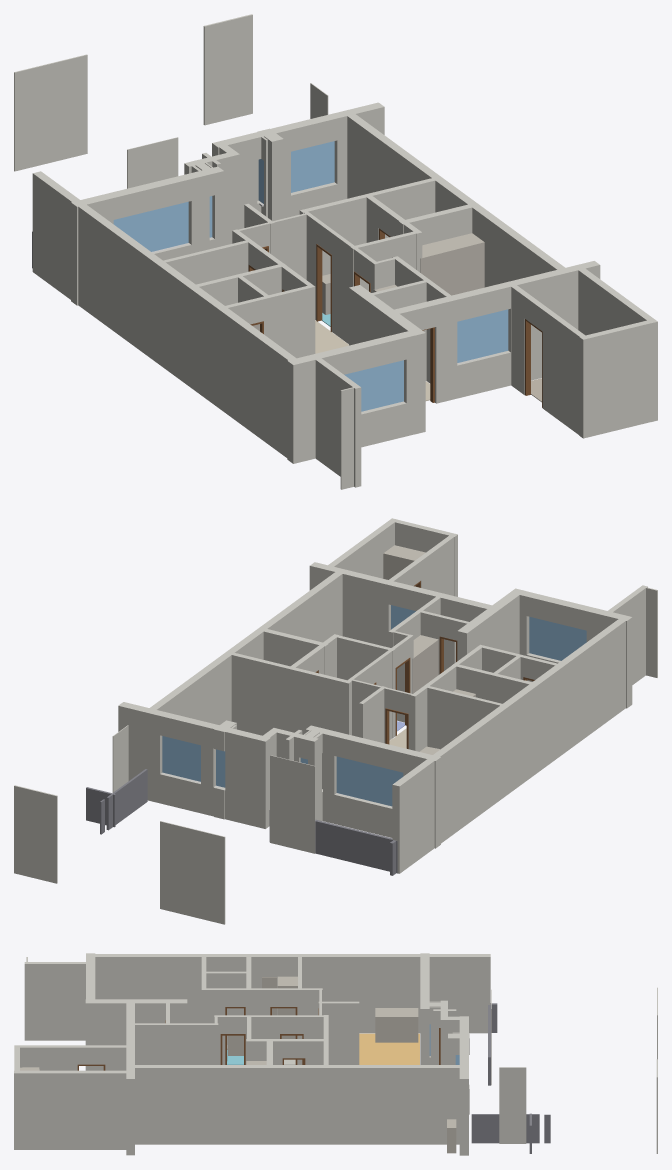
3 views of the same model, one above another, from view 1: azimuth 30°, elevation 25°; view 2: azimuth 150°, elevation 25°; view 3: azimuth 270°, elevation 25° (orthographic). The views are drawn at different scales.
Visible parts, largest first — view 1: walls, furniture_3_closet, window_2, window_3, window_1, window_14, door_8; view 2: walls, railings, window_2, window_1, window_14, furniture_5_closet, furniture_6_closet; view 3: walls, railings, floor_1_Kitchen, furniture_8_appliance, furniture_0_closet, furniture_7_appliance, furniture_17_sink.
Part boxes in pixels (x1=…): walls: x1=14, y1=14, x2=657, y2=489; furniture_3_closet: x1=420, y1=233, x2=484, y2=295; window_2: x1=113, y1=201, x2=188, y2=251; window_3: x1=457, y1=309, x2=508, y2=362; window_1: x1=344, y1=360, x2=403, y2=411; window_14: x1=291, y1=141, x2=334, y2=192; door_8: x1=316, y1=244, x2=331, y2=331; walls: x1=14, y1=518, x2=657, y2=924; railings: x1=86, y1=769, x2=397, y2=875; window_2: x1=336, y1=756, x2=403, y2=806; window_1: x1=529, y1=616, x2=586, y2=660; window_14: x1=162, y1=736, x2=200, y2=781; furniture_5_closet: x1=412, y1=635, x2=438, y2=693; furniture_6_closet: x1=383, y1=545, x2=425, y2=586; walls: x1=14, y1=953, x2=657, y2=1155; railings: x1=471, y1=1003, x2=550, y2=1153; floor_1_Kitchen: x1=359, y1=1033, x2=419, y2=1064; furniture_8_appliance: x1=375, y1=1008, x2=418, y2=1042; furniture_0_closet: x1=277, y1=976, x2=297, y2=1038; furniture_7_appliance: x1=447, y1=1119, x2=456, y2=1153; furniture_17_sink: x1=228, y1=1035, x2=243, y2=1055.
Size of the model in its own units: 9.52 by 2.72 by 20.62.
